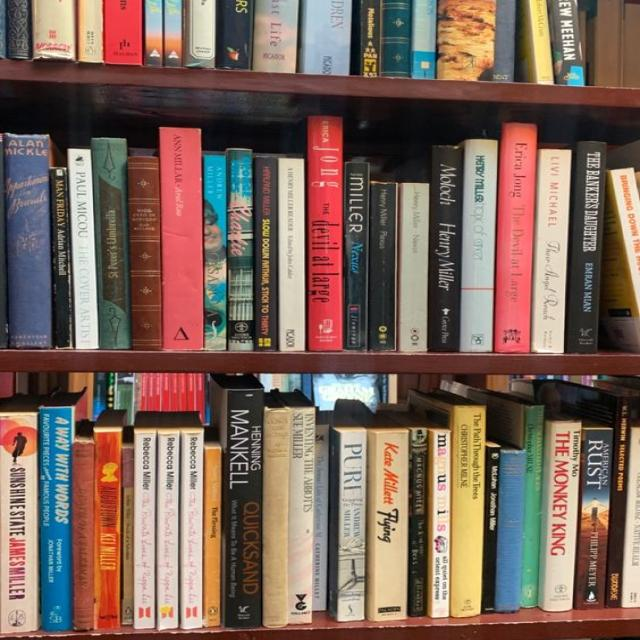book: (3, 136, 51, 347), (221, 389, 263, 628), (495, 121, 537, 352), (161, 127, 204, 350), (307, 116, 344, 351), (567, 140, 607, 353), (461, 139, 499, 351), (91, 137, 129, 349), (533, 149, 571, 353), (2, 414, 37, 632), (543, 420, 583, 610), (451, 406, 486, 617), (430, 145, 464, 351), (576, 428, 614, 610), (41, 406, 70, 632), (374, 432, 407, 620), (70, 150, 98, 348), (131, 156, 159, 350), (607, 396, 631, 609), (519, 404, 544, 608), (227, 147, 252, 350), (496, 453, 527, 613), (254, 156, 279, 351), (96, 432, 120, 630), (290, 409, 312, 624), (340, 433, 365, 620), (280, 158, 304, 351), (202, 151, 225, 350), (369, 182, 396, 350), (402, 183, 427, 351), (345, 162, 367, 351), (158, 433, 179, 628), (49, 168, 70, 348), (135, 432, 154, 629), (72, 442, 91, 632), (182, 433, 200, 629), (409, 428, 425, 617), (313, 424, 328, 612), (434, 431, 449, 616), (483, 446, 499, 612), (206, 448, 220, 628), (122, 448, 133, 627)
